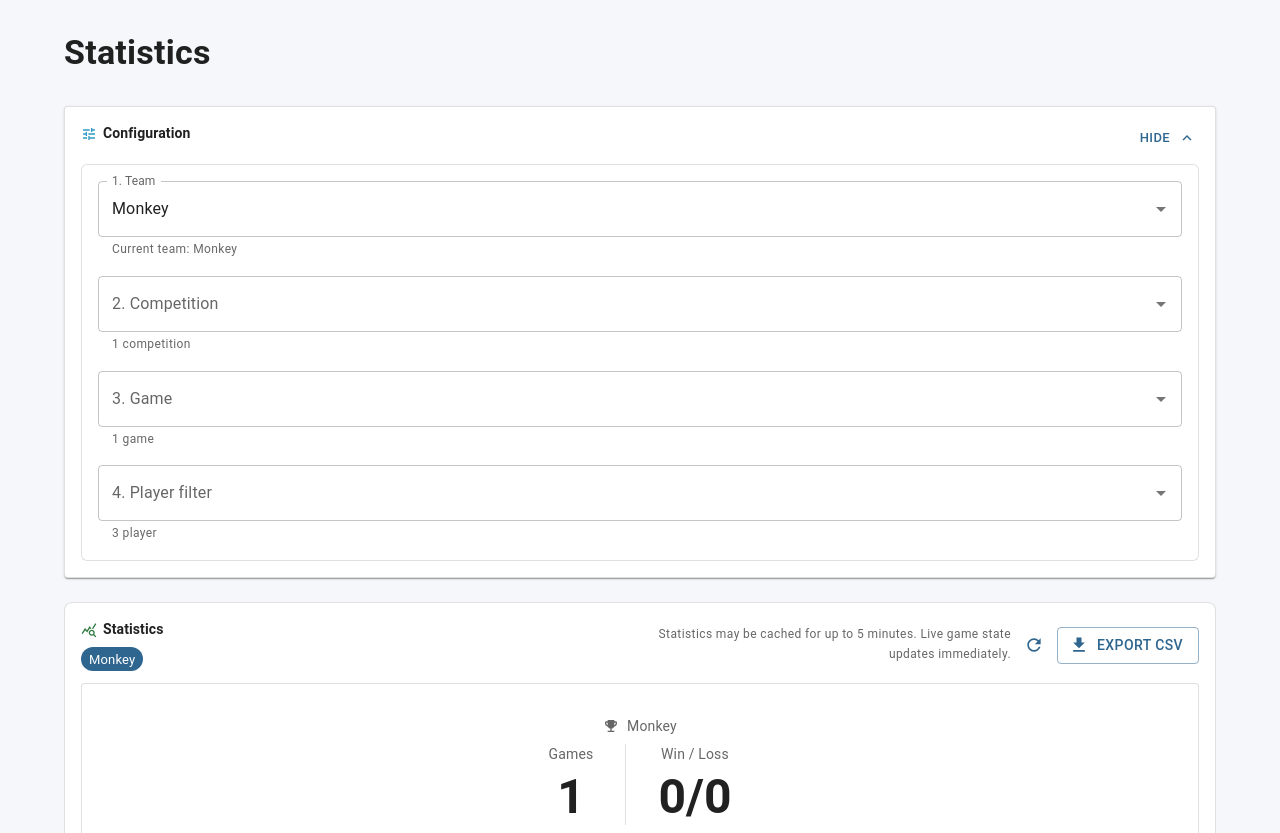
StatisticsPage › filters available players to teammates who shared a completed point
Click the dropdown labelled "4. Player filter" at [625, 494], box [107, 474, 1143, 512]
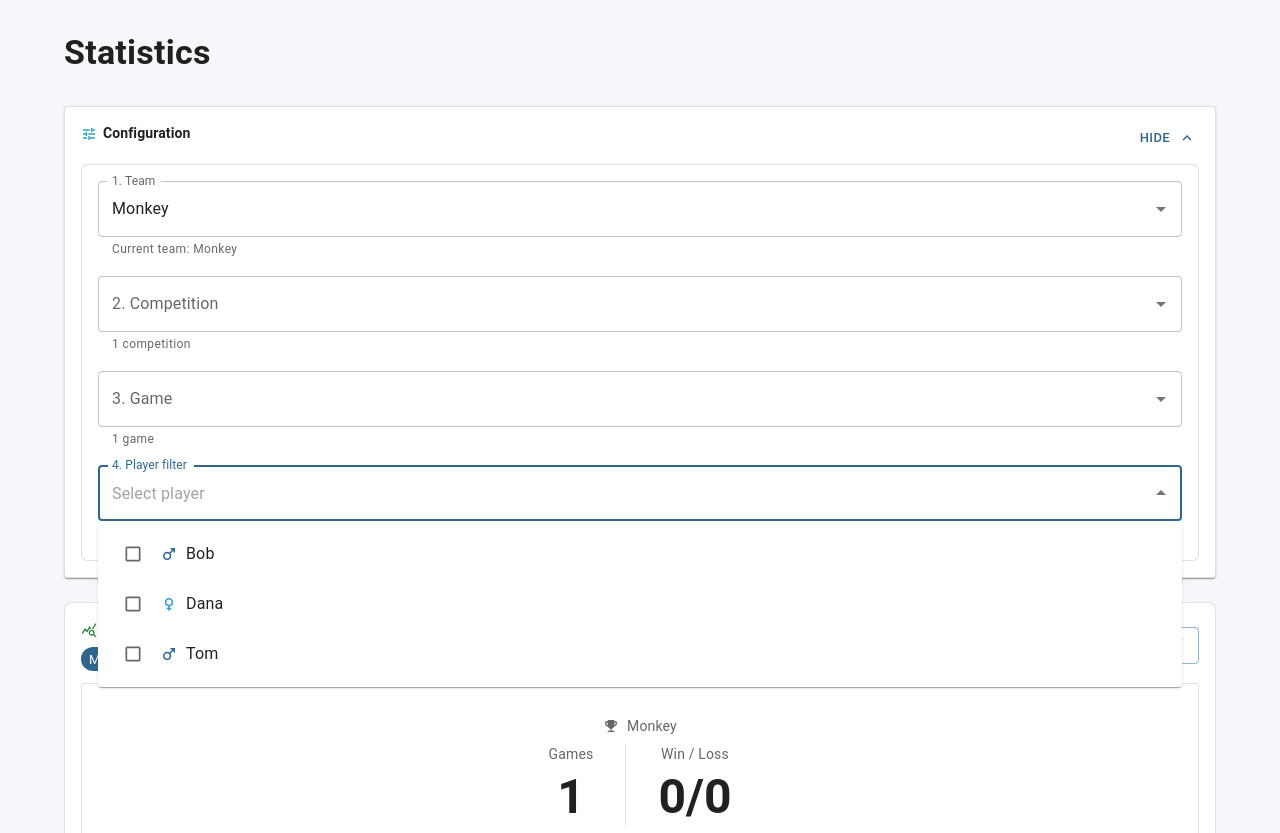
Click the option "Bob" at [169, 554], box [123, 544, 214, 564]
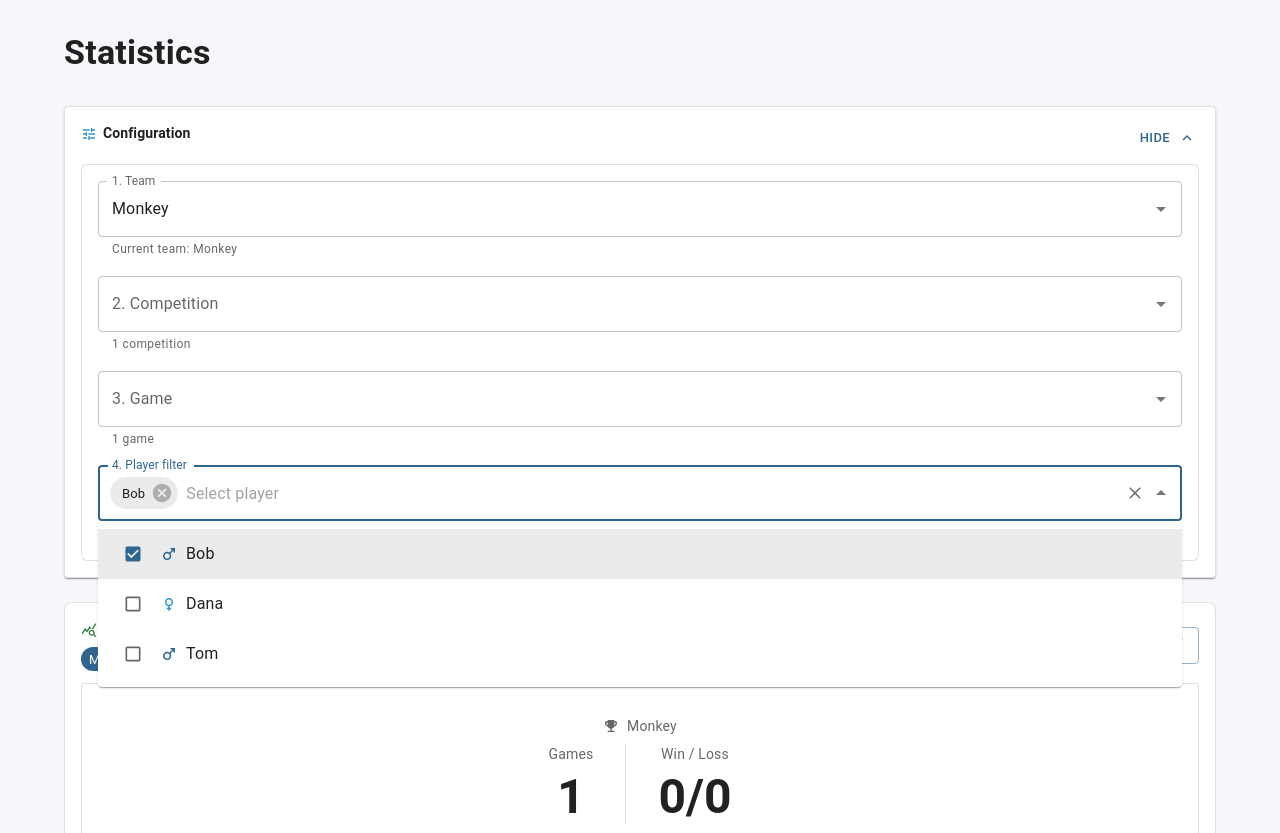
Press Escape
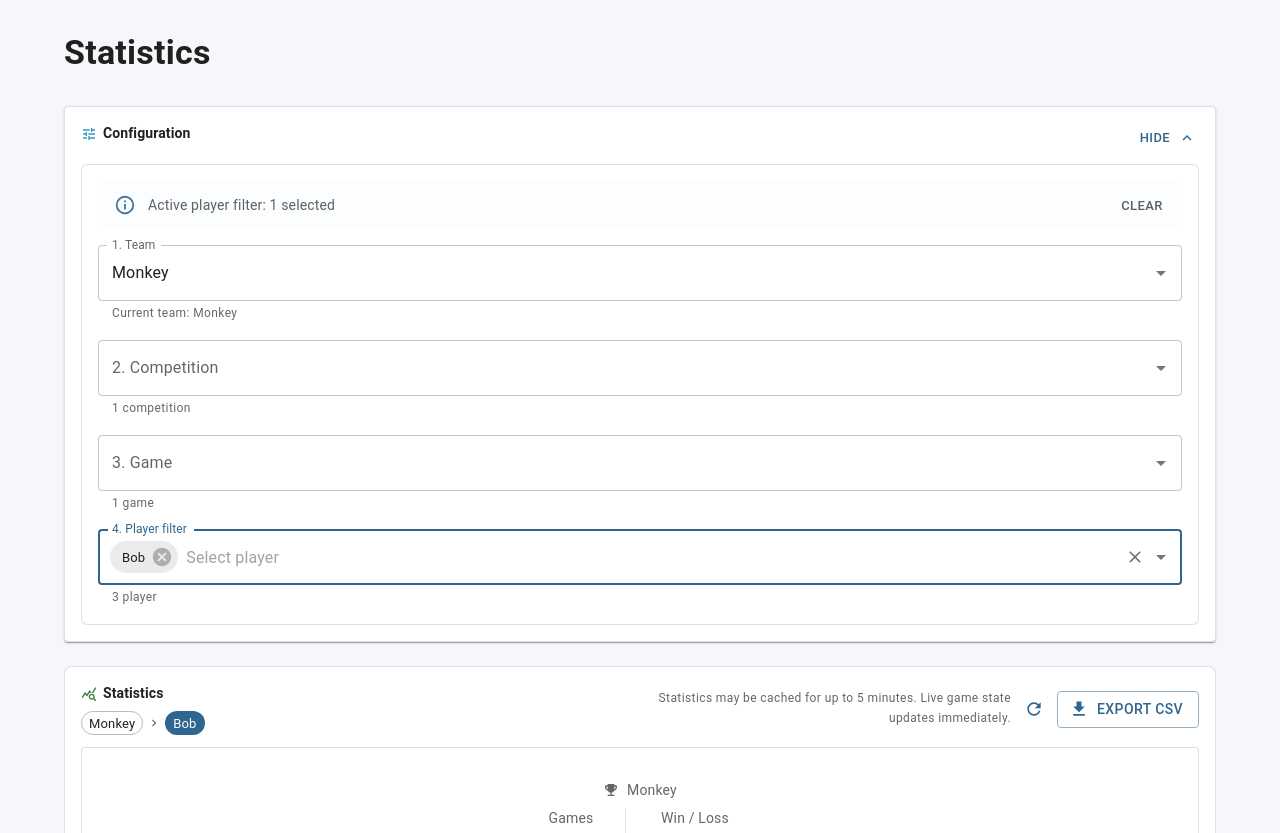
Result: the text "Active player filter: 1 selected" is shown at [148, 197, 335, 213]
Click the dropdown labelled "4. Player filter" at [649, 558], box [181, 538, 1117, 576]
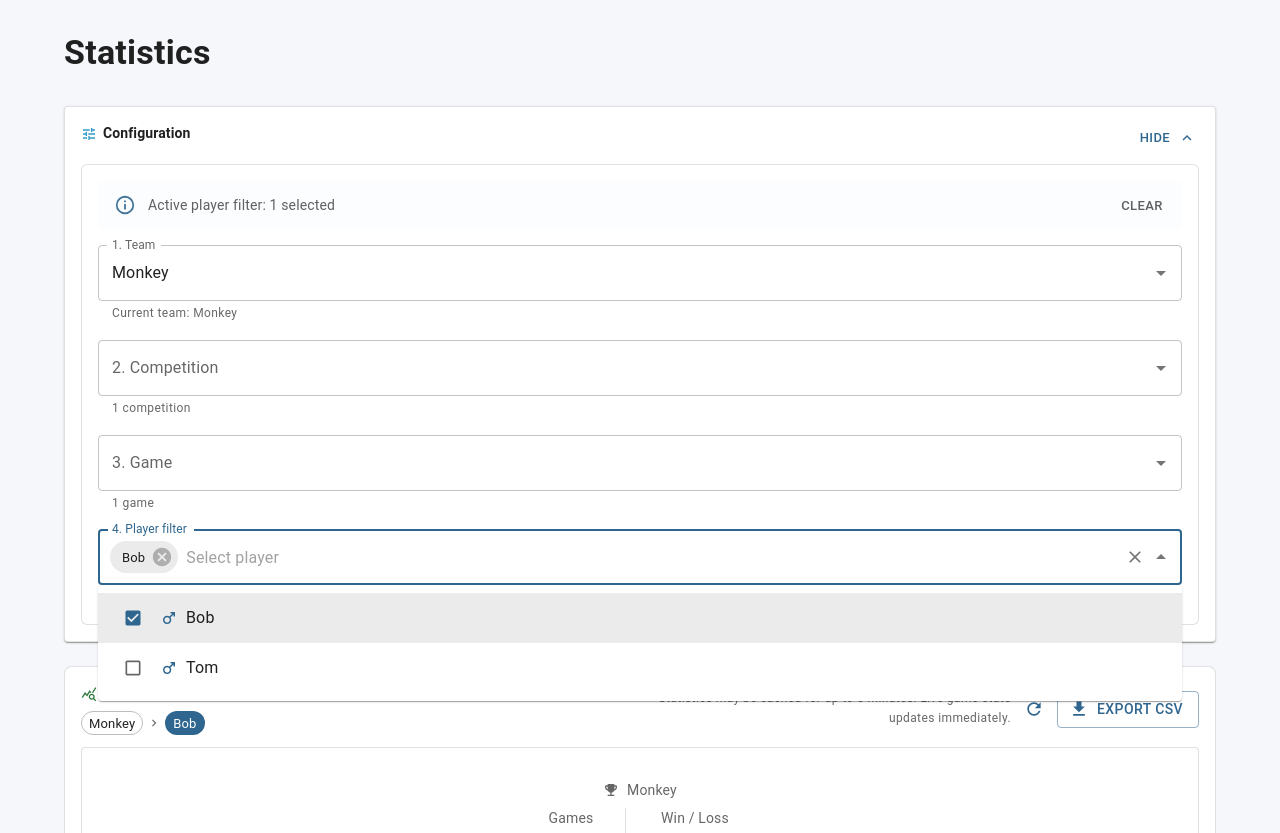
Expected: the option "Dana" is not shown
Result: the text "Tom" is shown at [186, 658, 218, 677]
